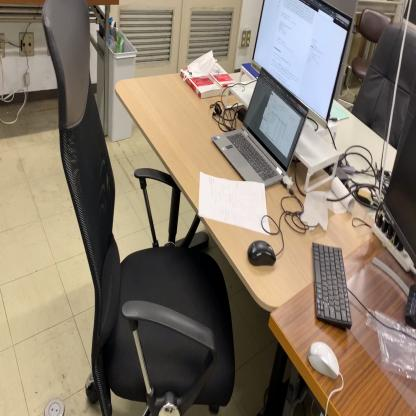chair: (41, 1, 235, 410)
